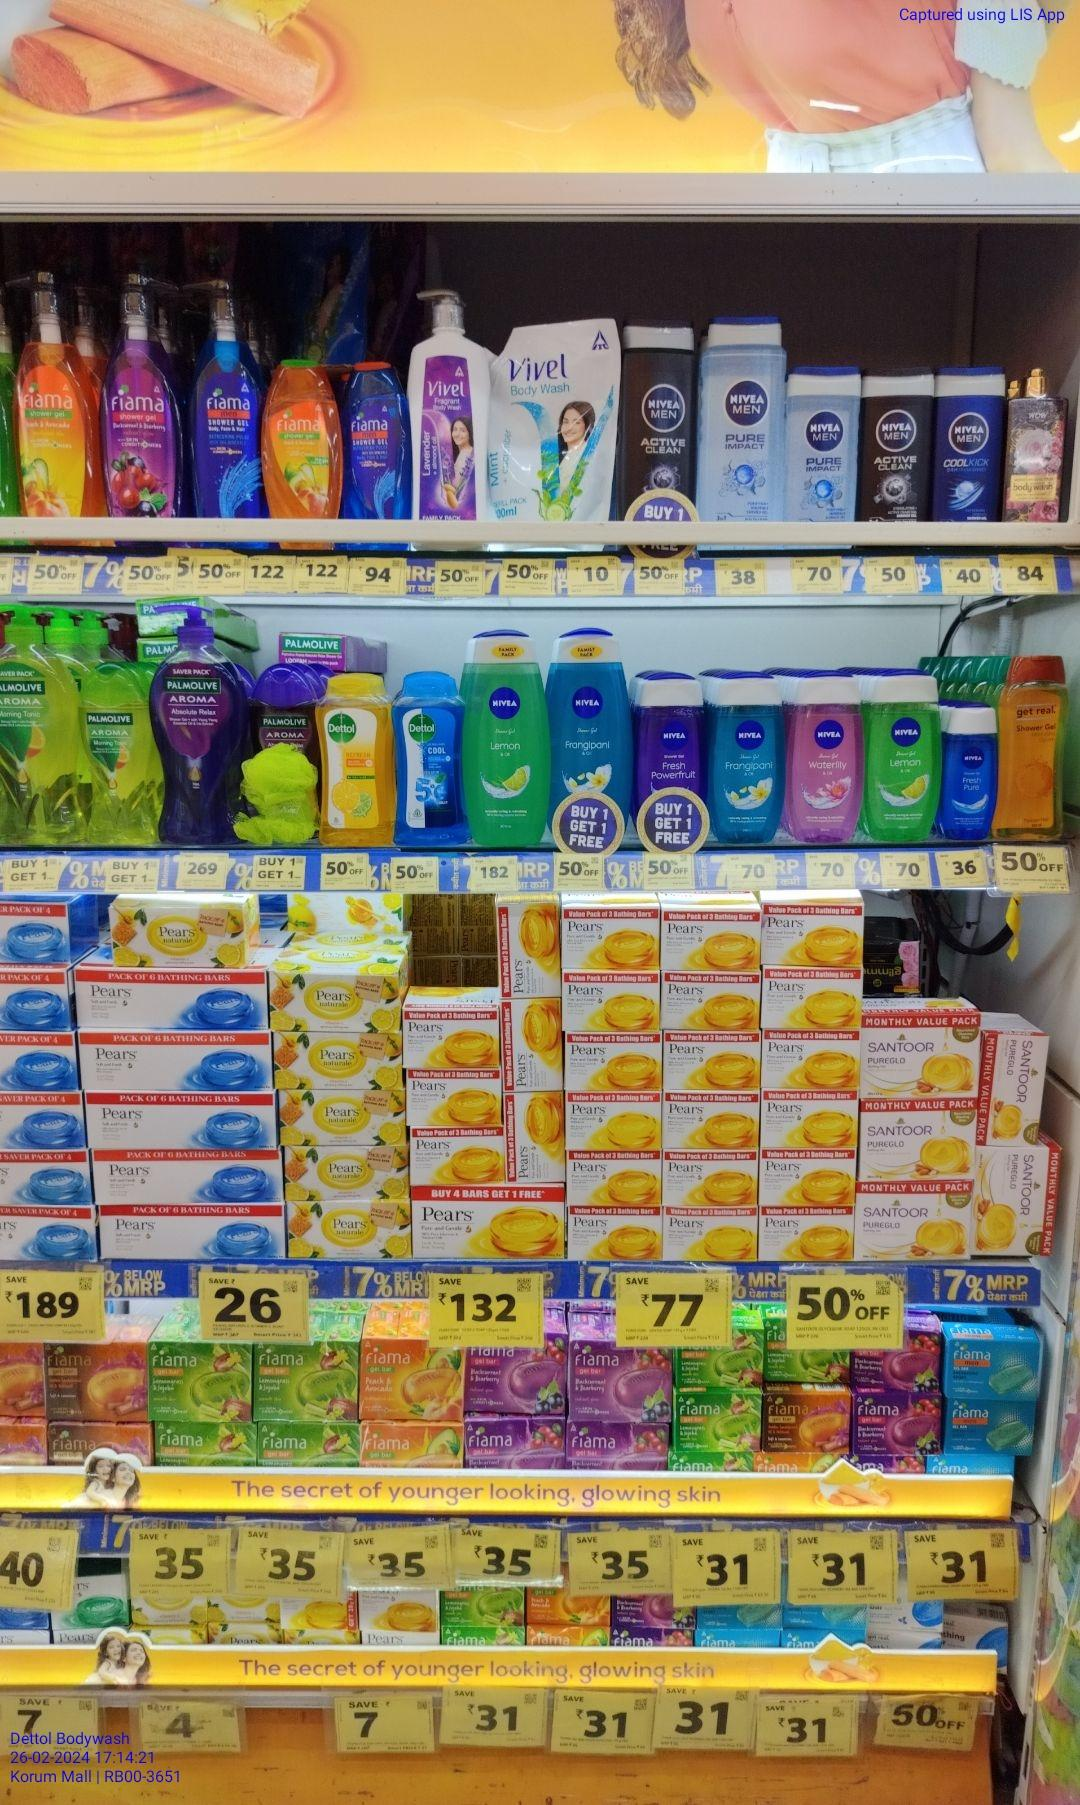Dettol_Bodywash_Cool: (396, 666, 467, 850)
Dettol_Bodywash_Refresh: (319, 671, 387, 846)
Fiama_Shower_Gel_Peach_and_Avocado_250ML: (265, 354, 346, 552)
Get_Real_Shower_Gel_Moisturising_Glycerin_300ML: (1003, 656, 1063, 842)
Nivea_Shower_Gel_Frangipani_and_Oil_250ML: (553, 624, 631, 852), (715, 666, 779, 843)
Nivea_Shower_Gel_Fresh_Powerfruit_250ML: (640, 675, 710, 833)
Nivea_Shower_Gel_Lemon_and_Oil_250ML: (467, 625, 549, 850), (870, 666, 942, 842)
Nivea_Shower_Gel_Waterlily_and_Oil_250ML: (791, 669, 859, 843)
Palmolive_Aroma_Morning_Tonic_Shower_Gel_250ML: (77, 663, 154, 849)
